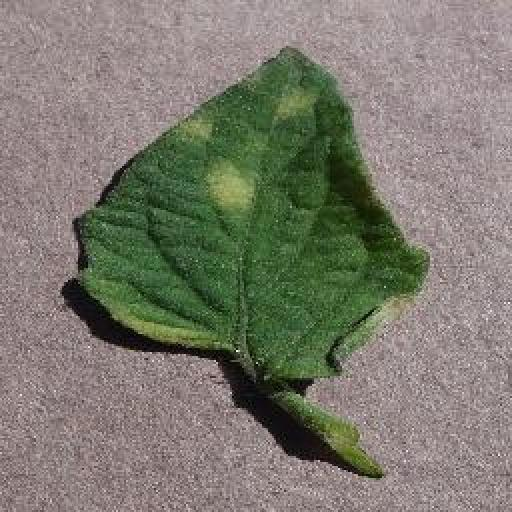disease_tomato: (78, 46, 429, 382)
